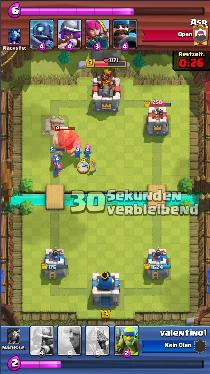ally_archer: (83, 144, 92, 159), (75, 144, 83, 159), (53, 166, 61, 176)
ally_musketeer: (51, 153, 63, 166)
enemy_giant: (51, 128, 81, 156)
